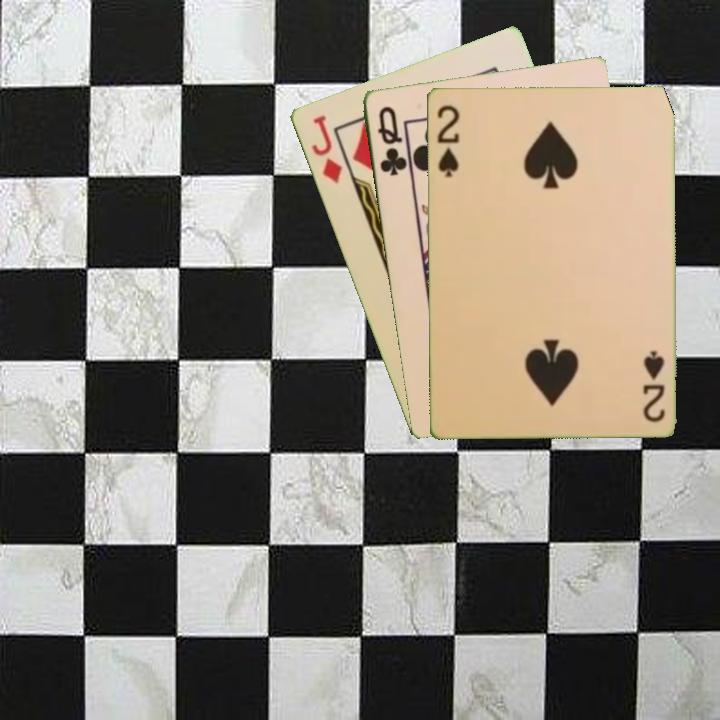2s: (433, 101, 462, 180), (639, 346, 667, 424)
Jd: (307, 111, 345, 186)
Qc: (374, 102, 410, 179)
